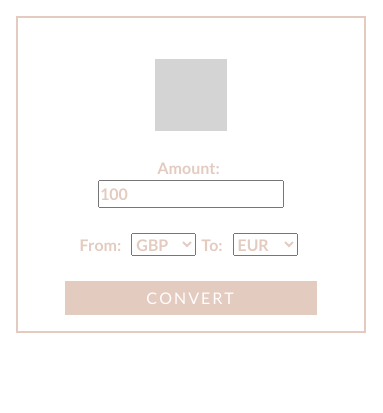
Test: performs currency conversion on button click
# Trigger a button click
Click the button "Convert": (191, 298) [65, 281, 317, 315]
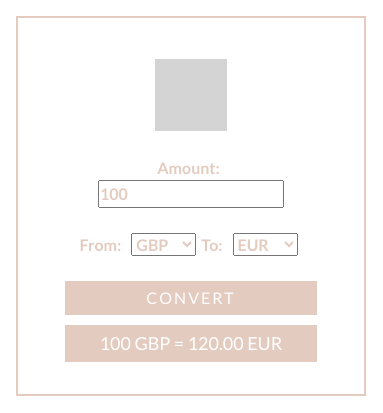
Check: the text "100 GBP = 120.00 EUR" is shown, box [65, 325, 317, 362]
